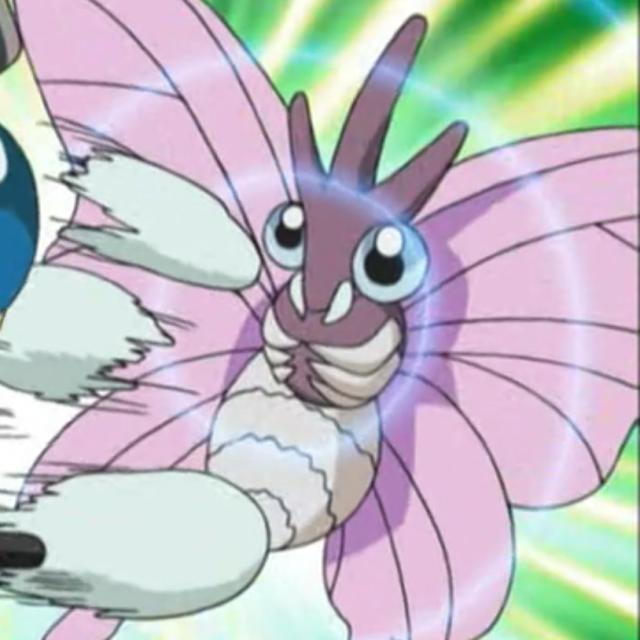Venomoth: (42, 16, 520, 640)
